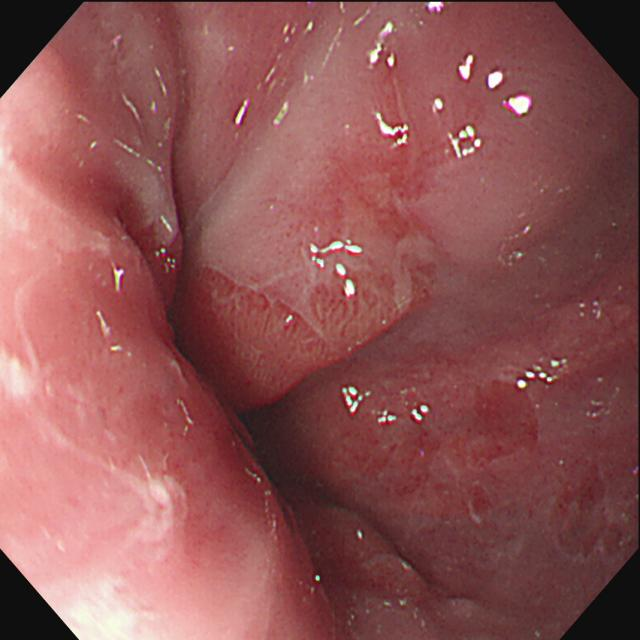U: (308, 240, 364, 301), (517, 357, 570, 392), (368, 22, 399, 69), (376, 112, 410, 148), (449, 126, 484, 160), (342, 386, 371, 416), (503, 93, 534, 118), (235, 97, 251, 128), (459, 55, 475, 83), (112, 264, 125, 295), (411, 406, 429, 426), (488, 71, 506, 90), (377, 411, 399, 426), (432, 98, 444, 114)
